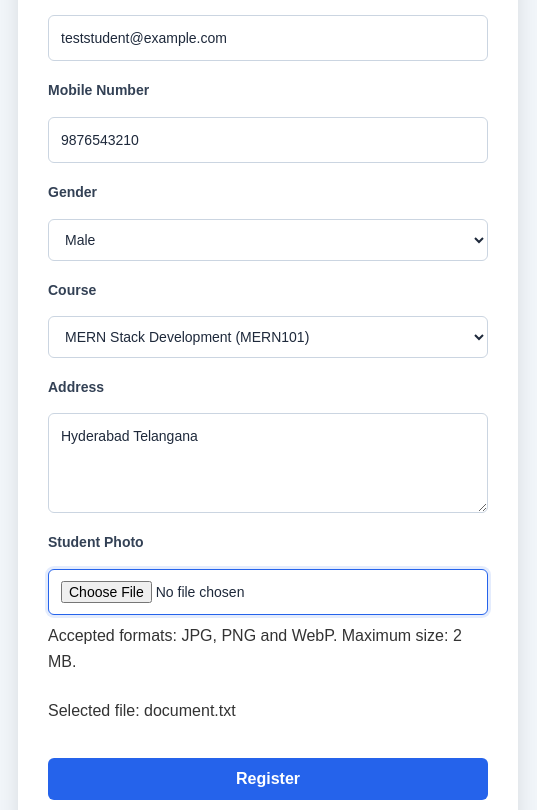
Test: StudentForm Component › should reject an unsupported photo format
Earlier steps of the test are not shown.
(page scrolled)
Click the button "Register": (268, 779) 48,758 -> 488,800
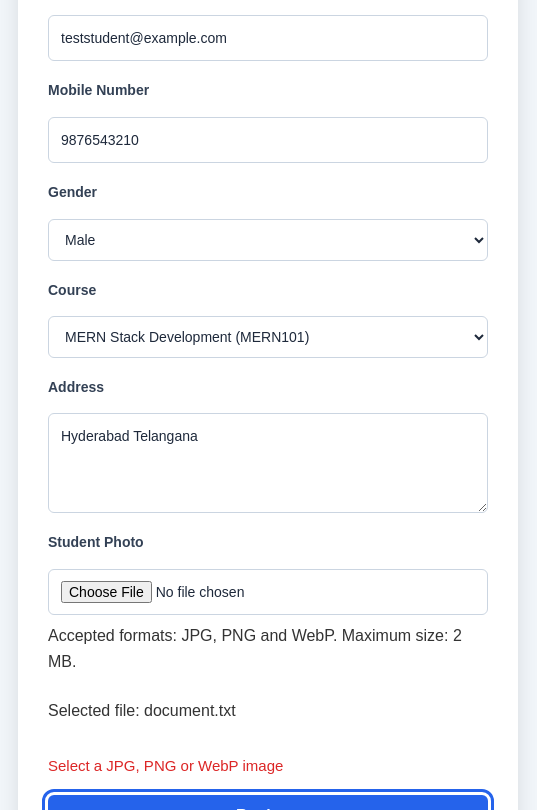
Expected: the text "Select a JPG, PNG or WebP image" is shown, 48,757 -> 283,774
